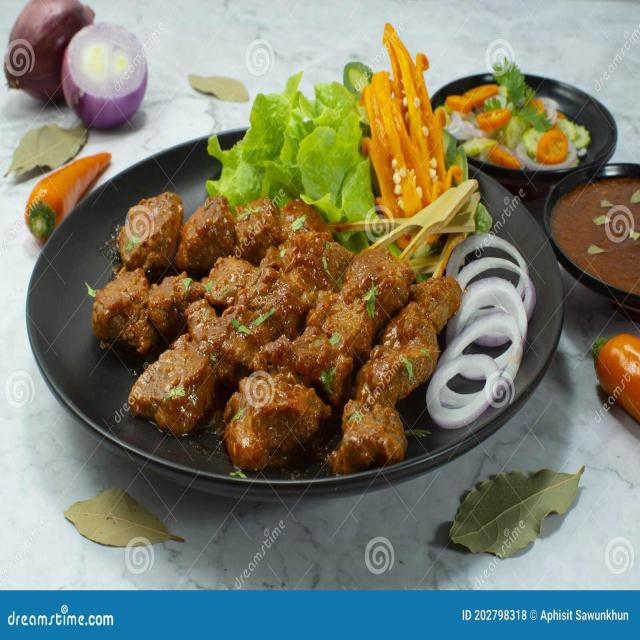Sate: (132, 144, 488, 462)
